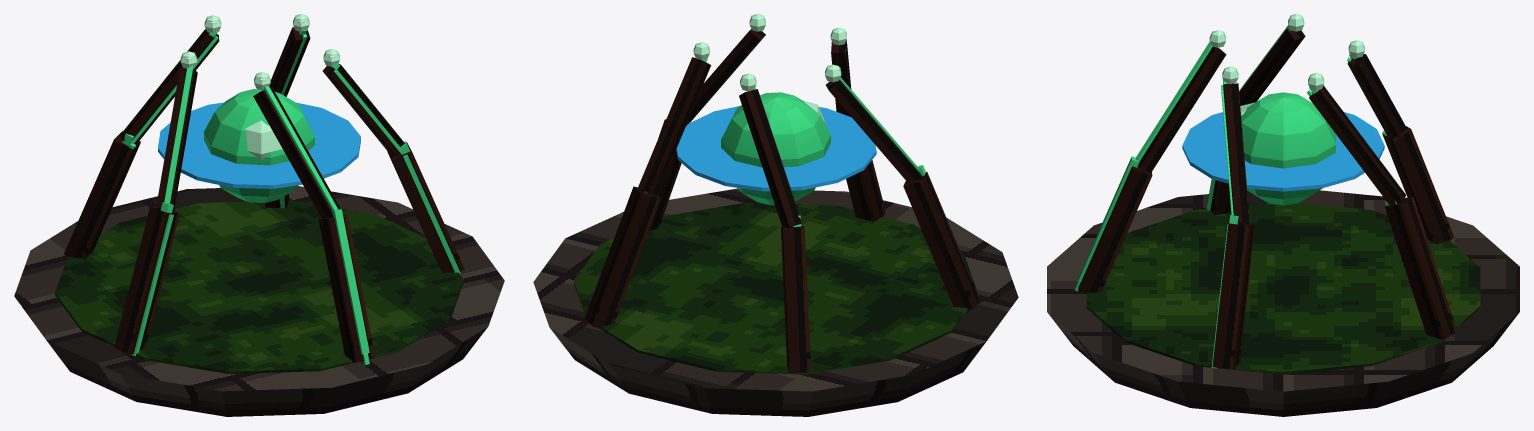
File: heartseed_cradle.glb
The picture shows the model from 3 angles, left to right: view 1: azimuth 30°, elevation 25°; view 2: azimuth 150°, elevation 25°; view 3: azimuth 270°, elevation 25°; orthographic projection.
Visible parts, largest first — view 1: heartseed_cradle; view 2: heartseed_cradle; view 3: heartseed_cradle.
Boxes of the visible parts, left/top/right/bottom form: heartseed_cradle: left=14, top=14, right=504, bottom=416; heartseed_cradle: left=533, top=14, right=1018, bottom=416; heartseed_cradle: left=1047, top=14, right=1519, bottom=416.
Size of the model in its own units: 3.6 by 2.3 by 3.51.
Materials: 4 (3 with a texture image).
